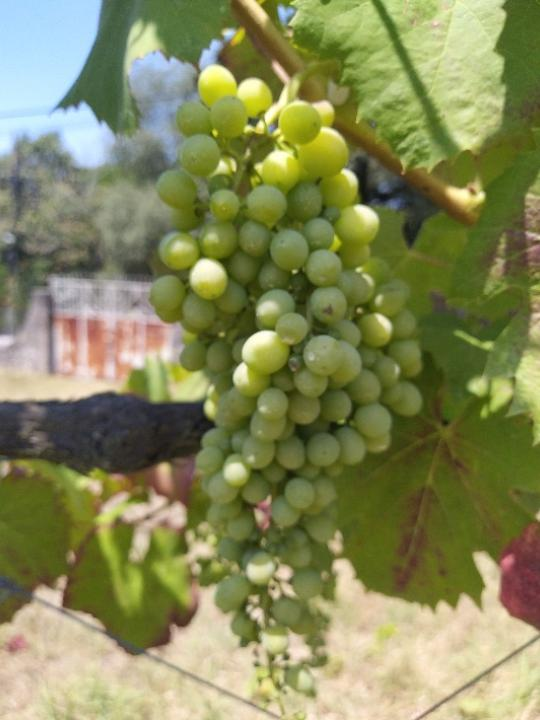grape: (149, 63, 425, 713)
